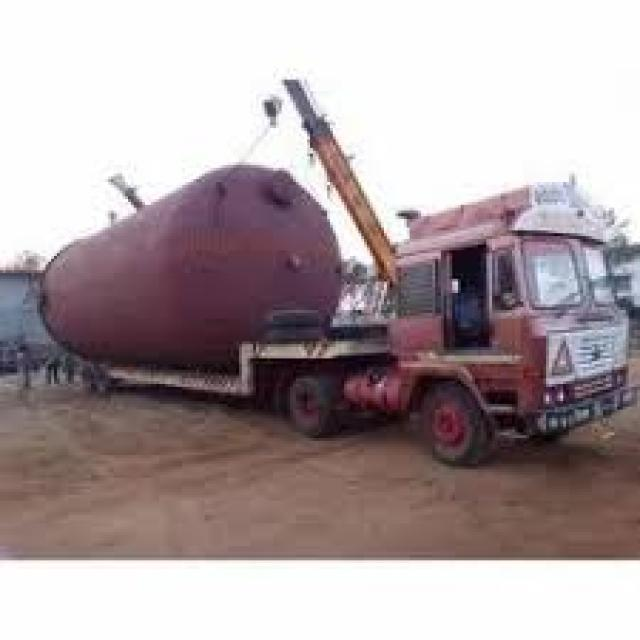uncovered: (37, 138, 632, 468)
